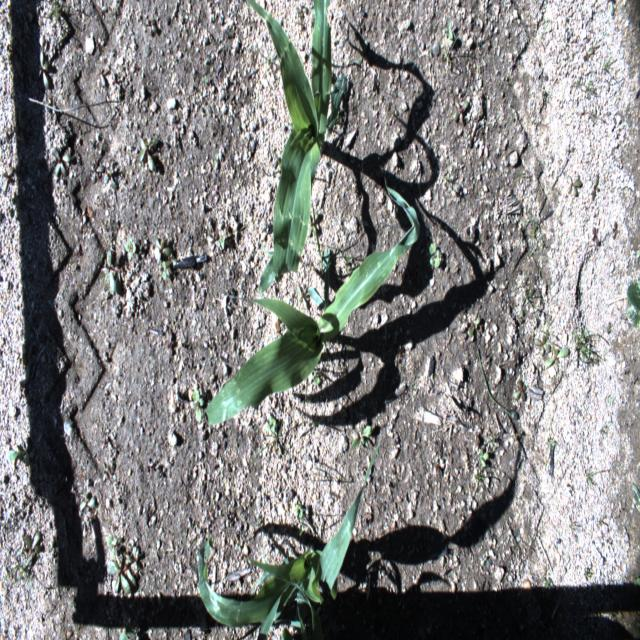crop: (205, 175, 420, 426), (196, 435, 382, 639), (245, 0, 347, 293), (626, 278, 640, 331), (632, 480, 640, 507)
weed: (105, 542, 138, 596), (311, 199, 333, 272), (571, 330, 594, 366), (5, 440, 37, 465), (139, 138, 159, 172), (542, 346, 570, 369), (52, 147, 71, 178), (351, 423, 372, 448), (102, 162, 120, 191), (103, 252, 116, 292), (190, 388, 204, 424), (533, 332, 551, 358), (37, 48, 48, 89), (156, 234, 171, 263), (26, 532, 40, 560), (454, 101, 470, 125), (512, 378, 527, 401), (429, 240, 441, 268), (565, 175, 581, 196), (3, 165, 14, 195), (47, 0, 62, 21), (467, 315, 480, 338), (125, 234, 136, 261), (92, 163, 105, 185), (79, 493, 96, 509), (307, 212, 318, 236), (591, 173, 600, 202), (207, 232, 221, 250), (118, 626, 137, 639), (478, 447, 489, 469), (266, 414, 278, 434), (295, 2, 309, 18), (298, 286, 307, 310), (17, 564, 28, 582), (343, 253, 354, 270), (161, 259, 170, 278), (445, 19, 453, 40), (113, 73, 122, 91), (294, 502, 304, 518), (593, 226, 600, 246), (265, 52, 274, 67), (607, 2, 616, 16), (583, 48, 594, 59), (612, 220, 618, 240), (311, 372, 321, 384), (632, 575, 640, 587), (50, 535, 56, 551), (476, 475, 486, 483), (545, 576, 550, 590), (586, 471, 590, 485), (605, 58, 609, 72)
